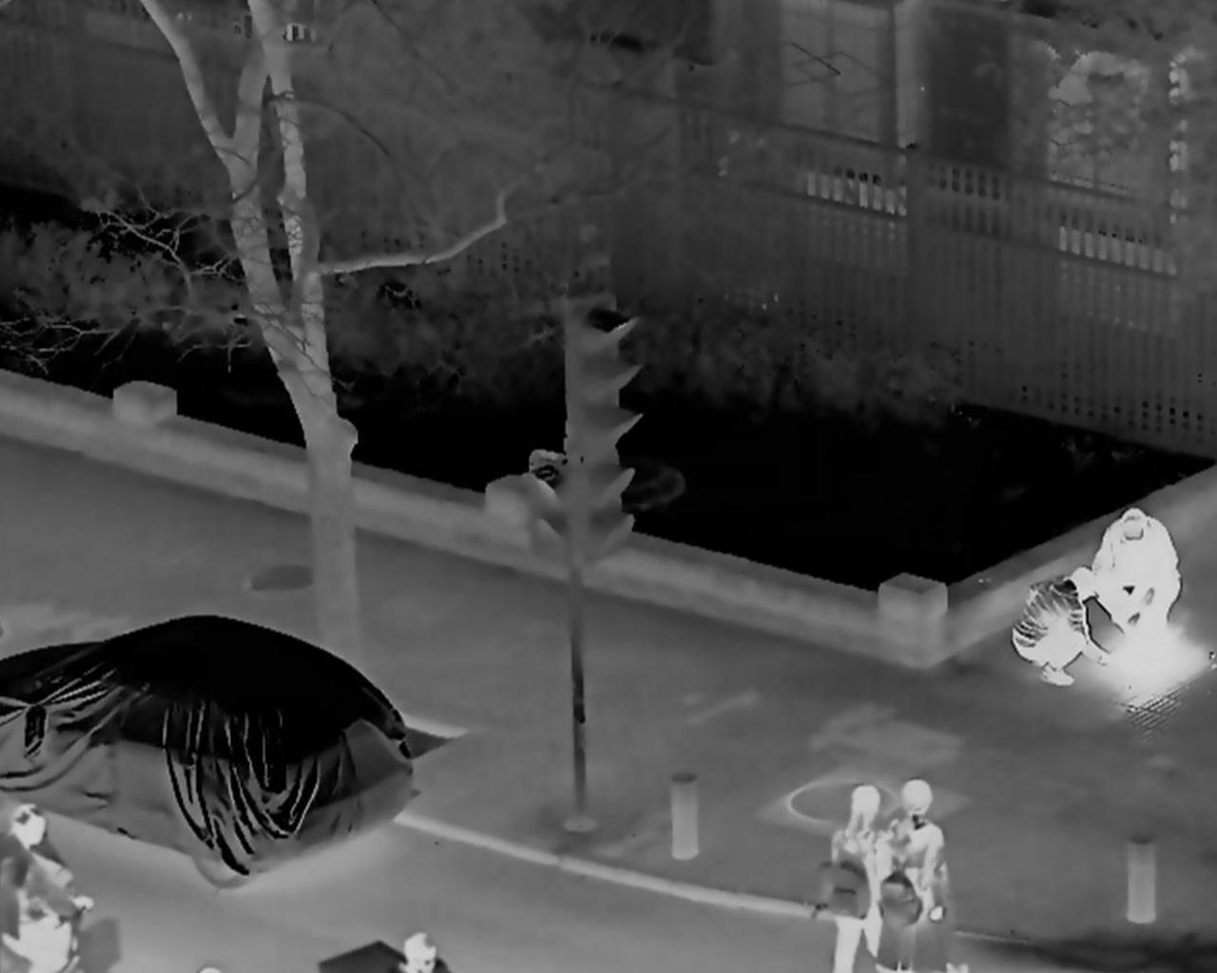person: (879, 776, 956, 973), (2, 800, 87, 973), (825, 780, 890, 970), (1010, 568, 1110, 690), (1094, 506, 1179, 639)
